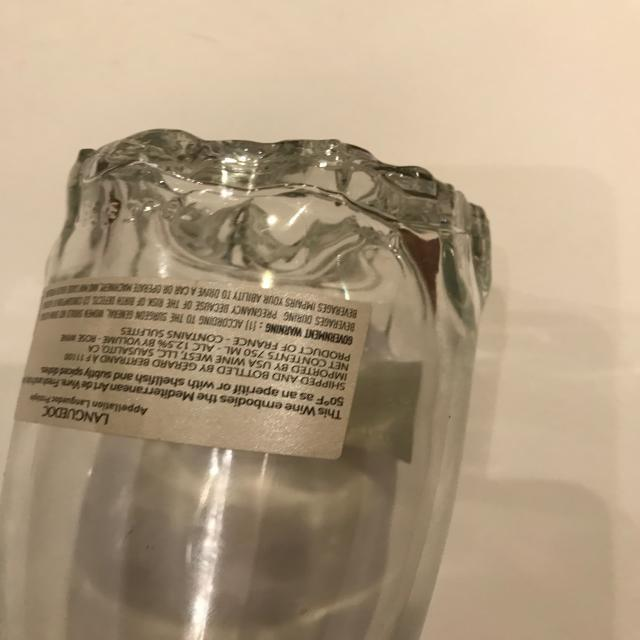glass: (2, 126, 492, 640)
